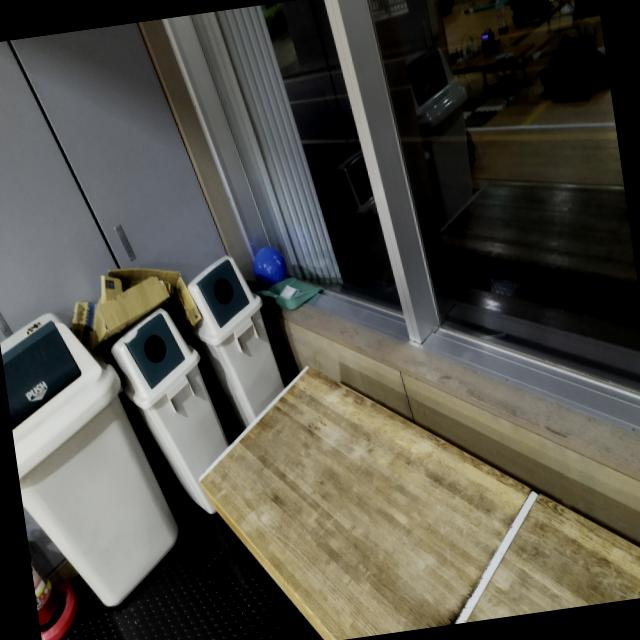blue_ball: (247, 240, 290, 294)
